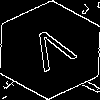V: (25, 25, 83, 81)
